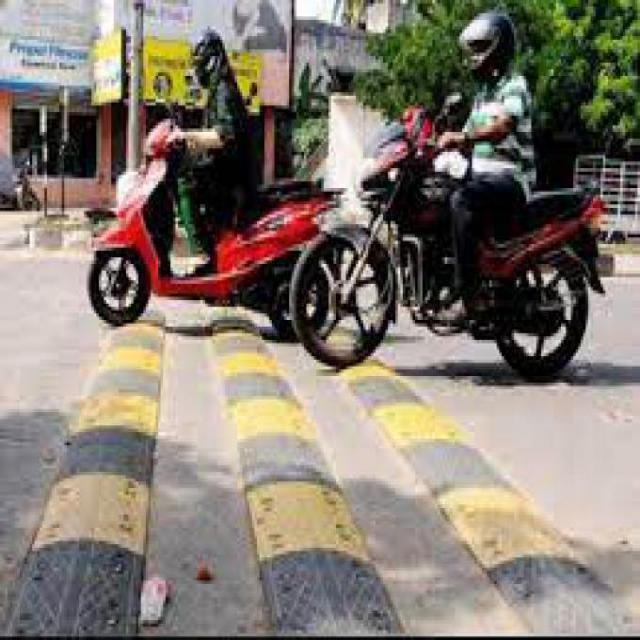speedbreaker: (0, 318, 610, 640)
